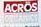AcrosOrganics: (4, 1, 38, 13)
